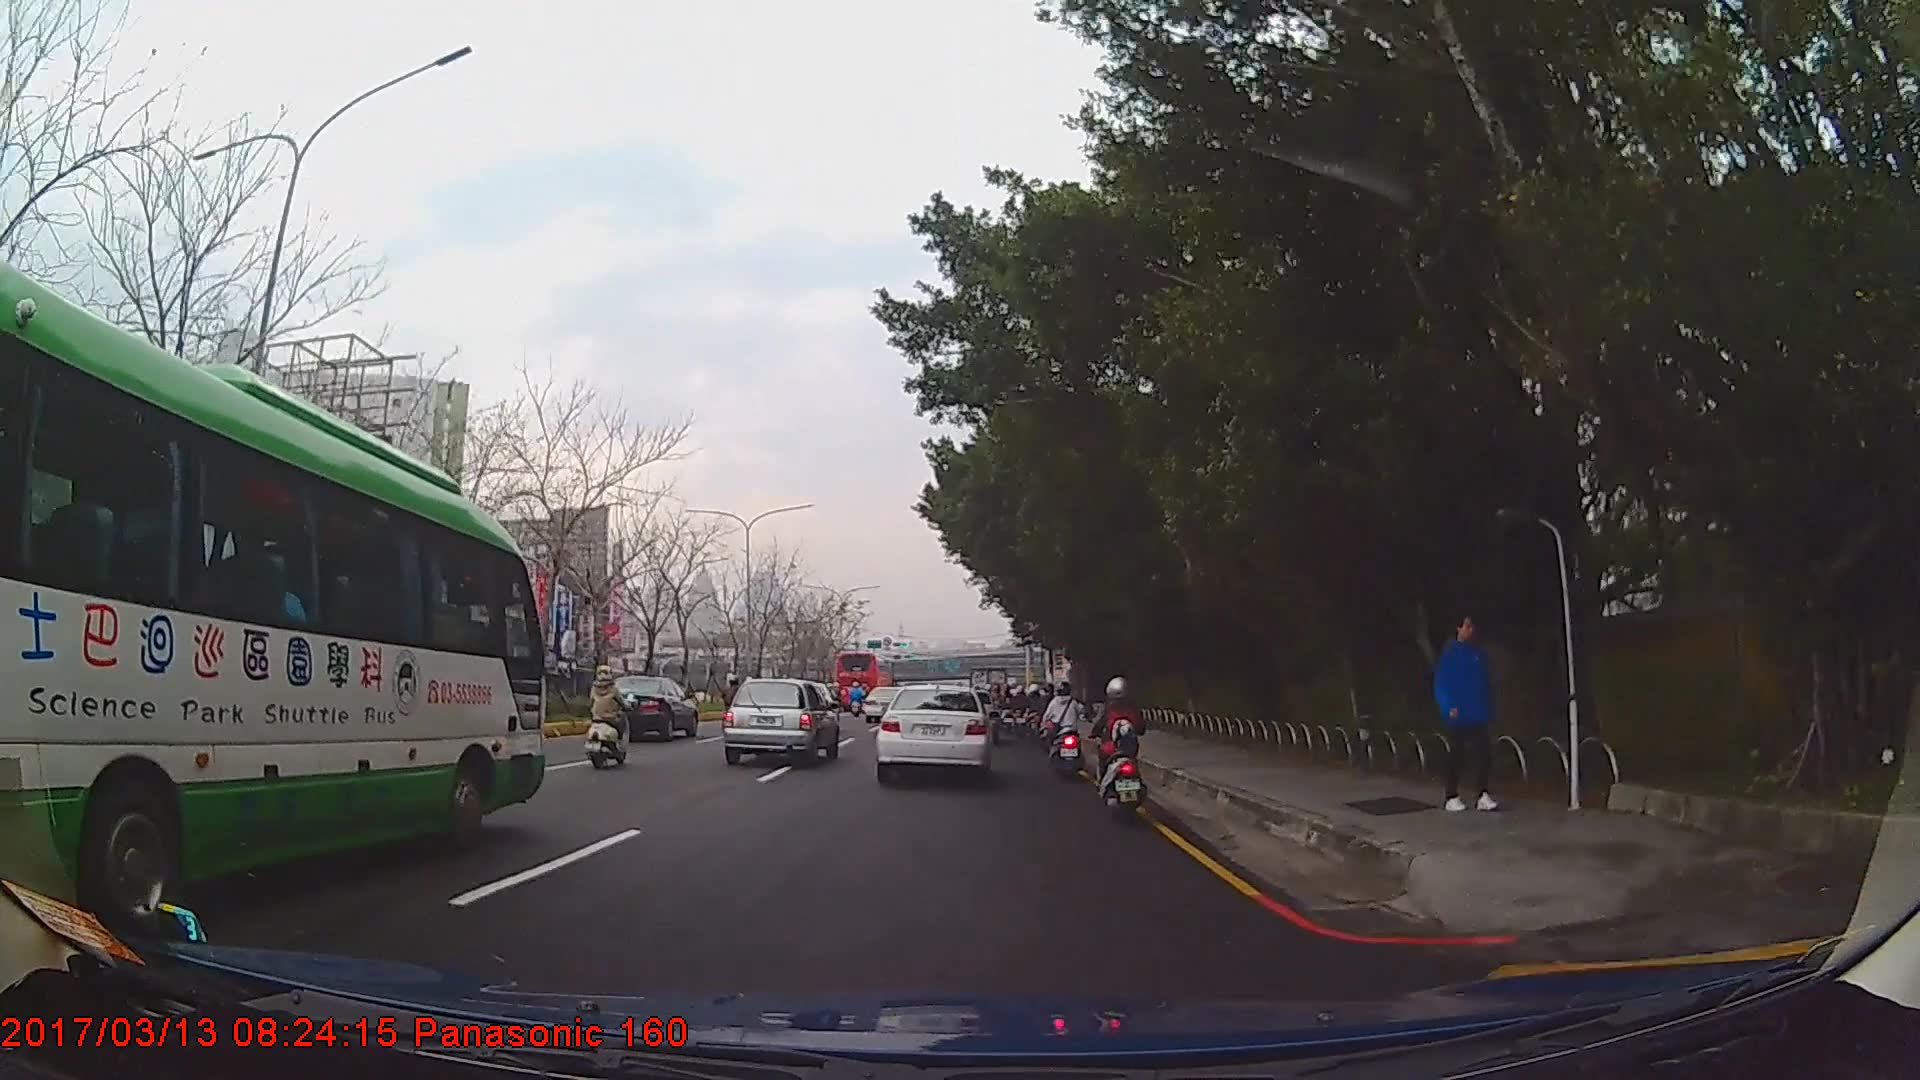pedestrian: (1434, 611, 1496, 813)
rider: (1095, 675, 1147, 821), (587, 662, 635, 770), (1043, 676, 1086, 777), (1038, 683, 1059, 753), (723, 674, 745, 725)
vehicle: (0, 251, 546, 948), (876, 679, 993, 779), (722, 675, 839, 766), (597, 674, 698, 739), (829, 646, 897, 707)
